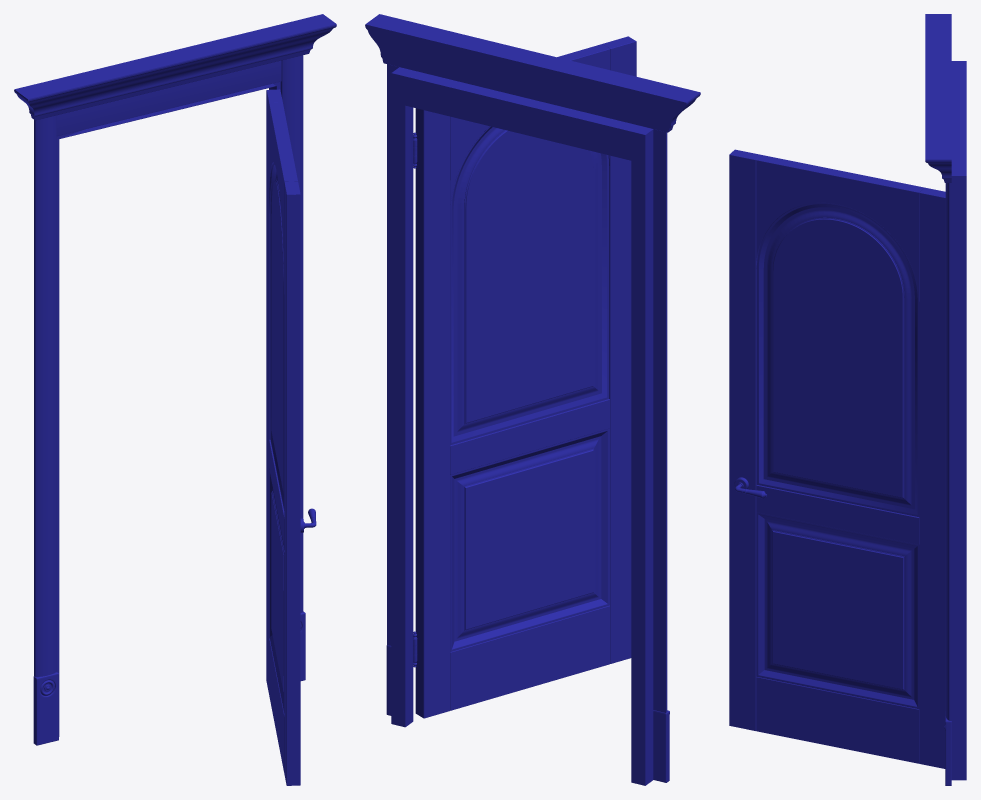
The model's file is door-open.fbx.
3 renders of one model, left to right at view 1: azimuth 30°, elevation 25°; view 2: azimuth 150°, elevation 25°; view 3: azimuth 270°, elevation 25°, orthographic. The views are drawn at different scales.
Visible parts, largest first — view 1: polySurface1, polySurface17; view 2: polySurface17, polySurface1; view 3: polySurface17, polySurface1.
Boxes of the visible parts, x1,y1,x2,y2 form: polySurface1: (14, 14, 336, 745); polySurface17: (266, 89, 316, 785); polySurface17: (415, 36, 636, 718); polySurface1: (365, 14, 700, 785); polySurface17: (729, 149, 945, 768); polySurface1: (925, 14, 966, 785).
Size of the model in its own units: 1148 by 2338 by 791.
